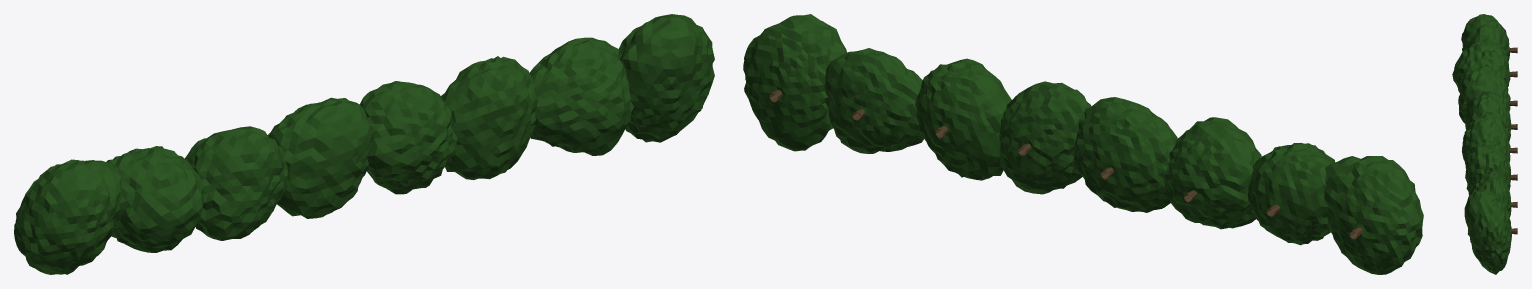
Rendered from citrus_run8_b.obj.
3 views of the same model, side by side, from view 1: azimuth 30°, elevation 25°; view 2: azimuth 150°, elevation 25°; view 3: azimuth 270°, elevation 25° (orthographic). The views are drawn at different scales.
Parts seen in each view (by area): view 1: canopy; view 2: canopy, trunk; view 3: canopy, trunk.
Boxes of the visible parts, left/top/right/bottom form: canopy: left=14, top=14, right=714, bottom=274; canopy: left=743, top=14, right=1423, bottom=274; trunk: left=769, top=90, right=1362, bottom=239; canopy: left=1452, top=14, right=1511, bottom=274; trunk: left=1509, top=47, right=1517, bottom=234.
Bounding box in the file's own units: 24.27 × 4.35 × 3.24.
